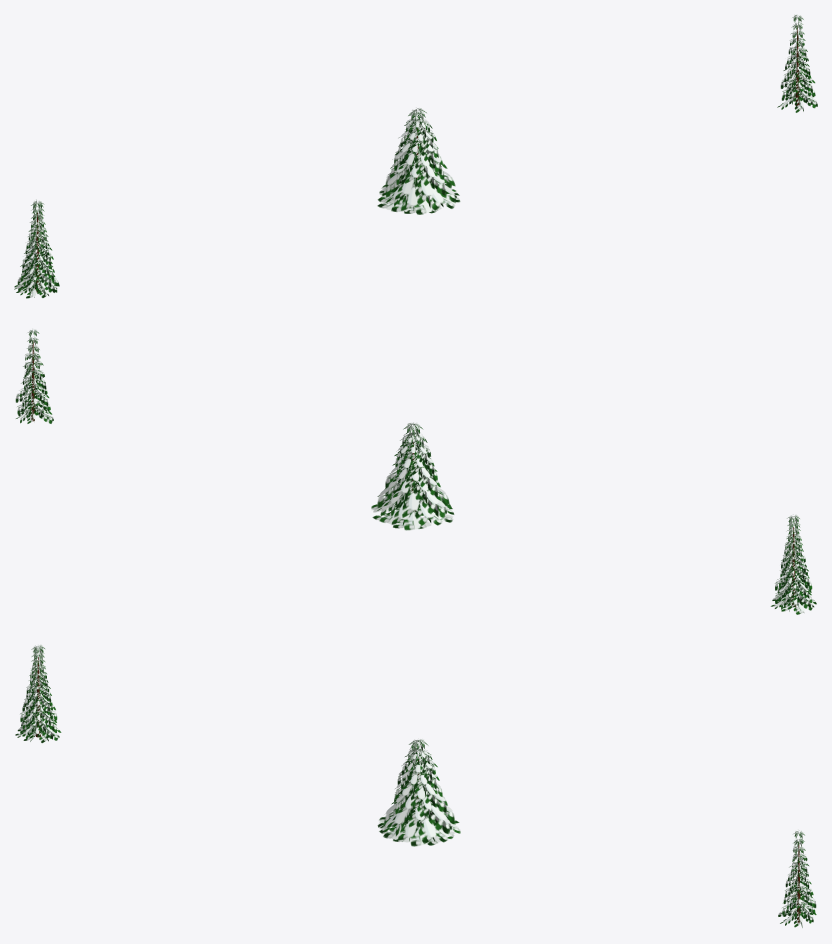
File: snowy-pine-pack.glb
The picture shows the model from 3 angles, top to bottom: view 1: azimuth 30°, elevation 25°; view 2: azimuth 150°, elevation 25°; view 3: azimuth 330°, elevation 25°; orthographic projection.
Visible parts, largest first — view 1: pine_broad, pine_spire, pine_young; view 2: pine_broad, pine_spire, pine_young; view 3: pine_broad, pine_spire, pine_young.
Part boxes in pixels (<box>): pine_broad: <box>377,107,460,214</box>; pine_spire: <box>14,199,59,298</box>; pine_young: <box>777,14,817,112</box>; pine_broad: <box>371,422,454,530</box>; pine_spire: <box>771,514,816,614</box>; pine_young: <box>15,328,53,423</box>; pine_broad: <box>377,739,460,846</box>; pine_spire: <box>15,644,61,742</box>; pine_young: <box>778,829,816,927</box>.
Size of the model in its own units: 101 by 11 by 9.47.
1 material, 1 textured.
